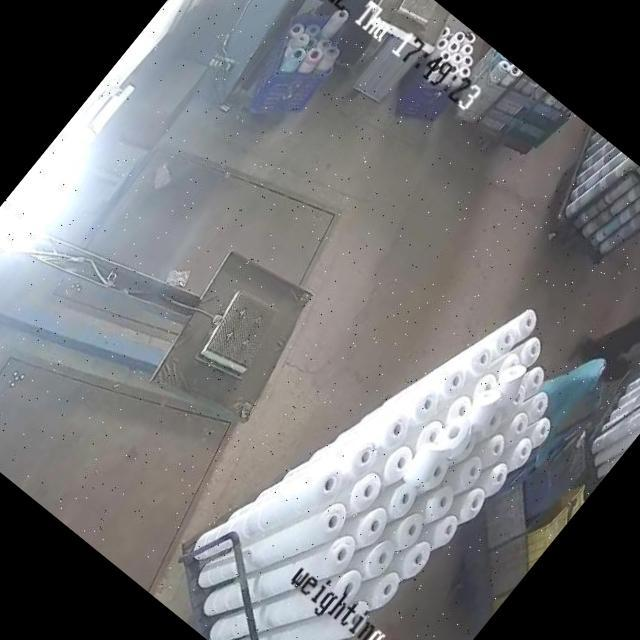person: (531, 323, 640, 451), (581, 270, 640, 403)
